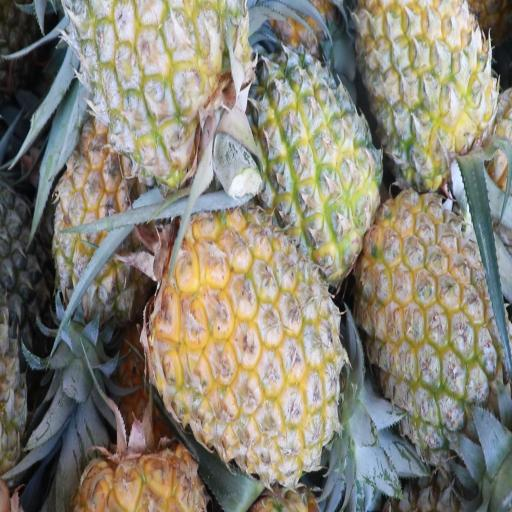------------------------------: (73, 0, 250, 192), (56, 126, 144, 325)
Pineapple - v8 v1: (162, 212, 342, 462), (362, 200, 501, 433), (254, 48, 379, 267), (360, 0, 498, 188)
